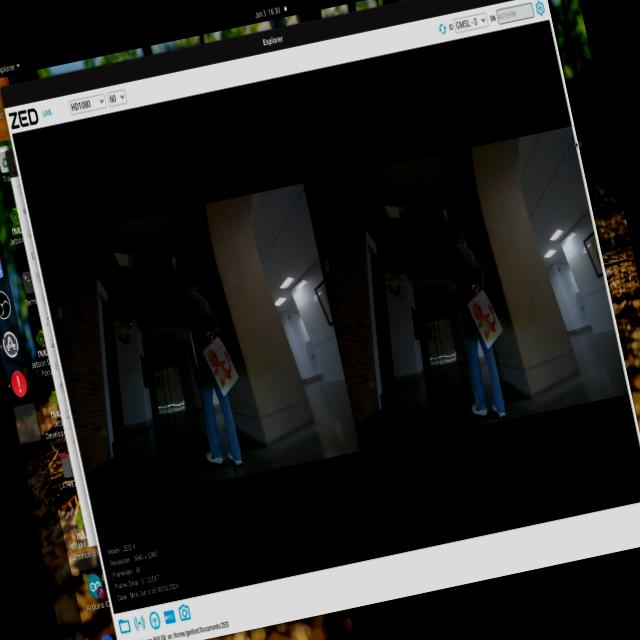red: (204, 332, 244, 396), (466, 290, 508, 346)
